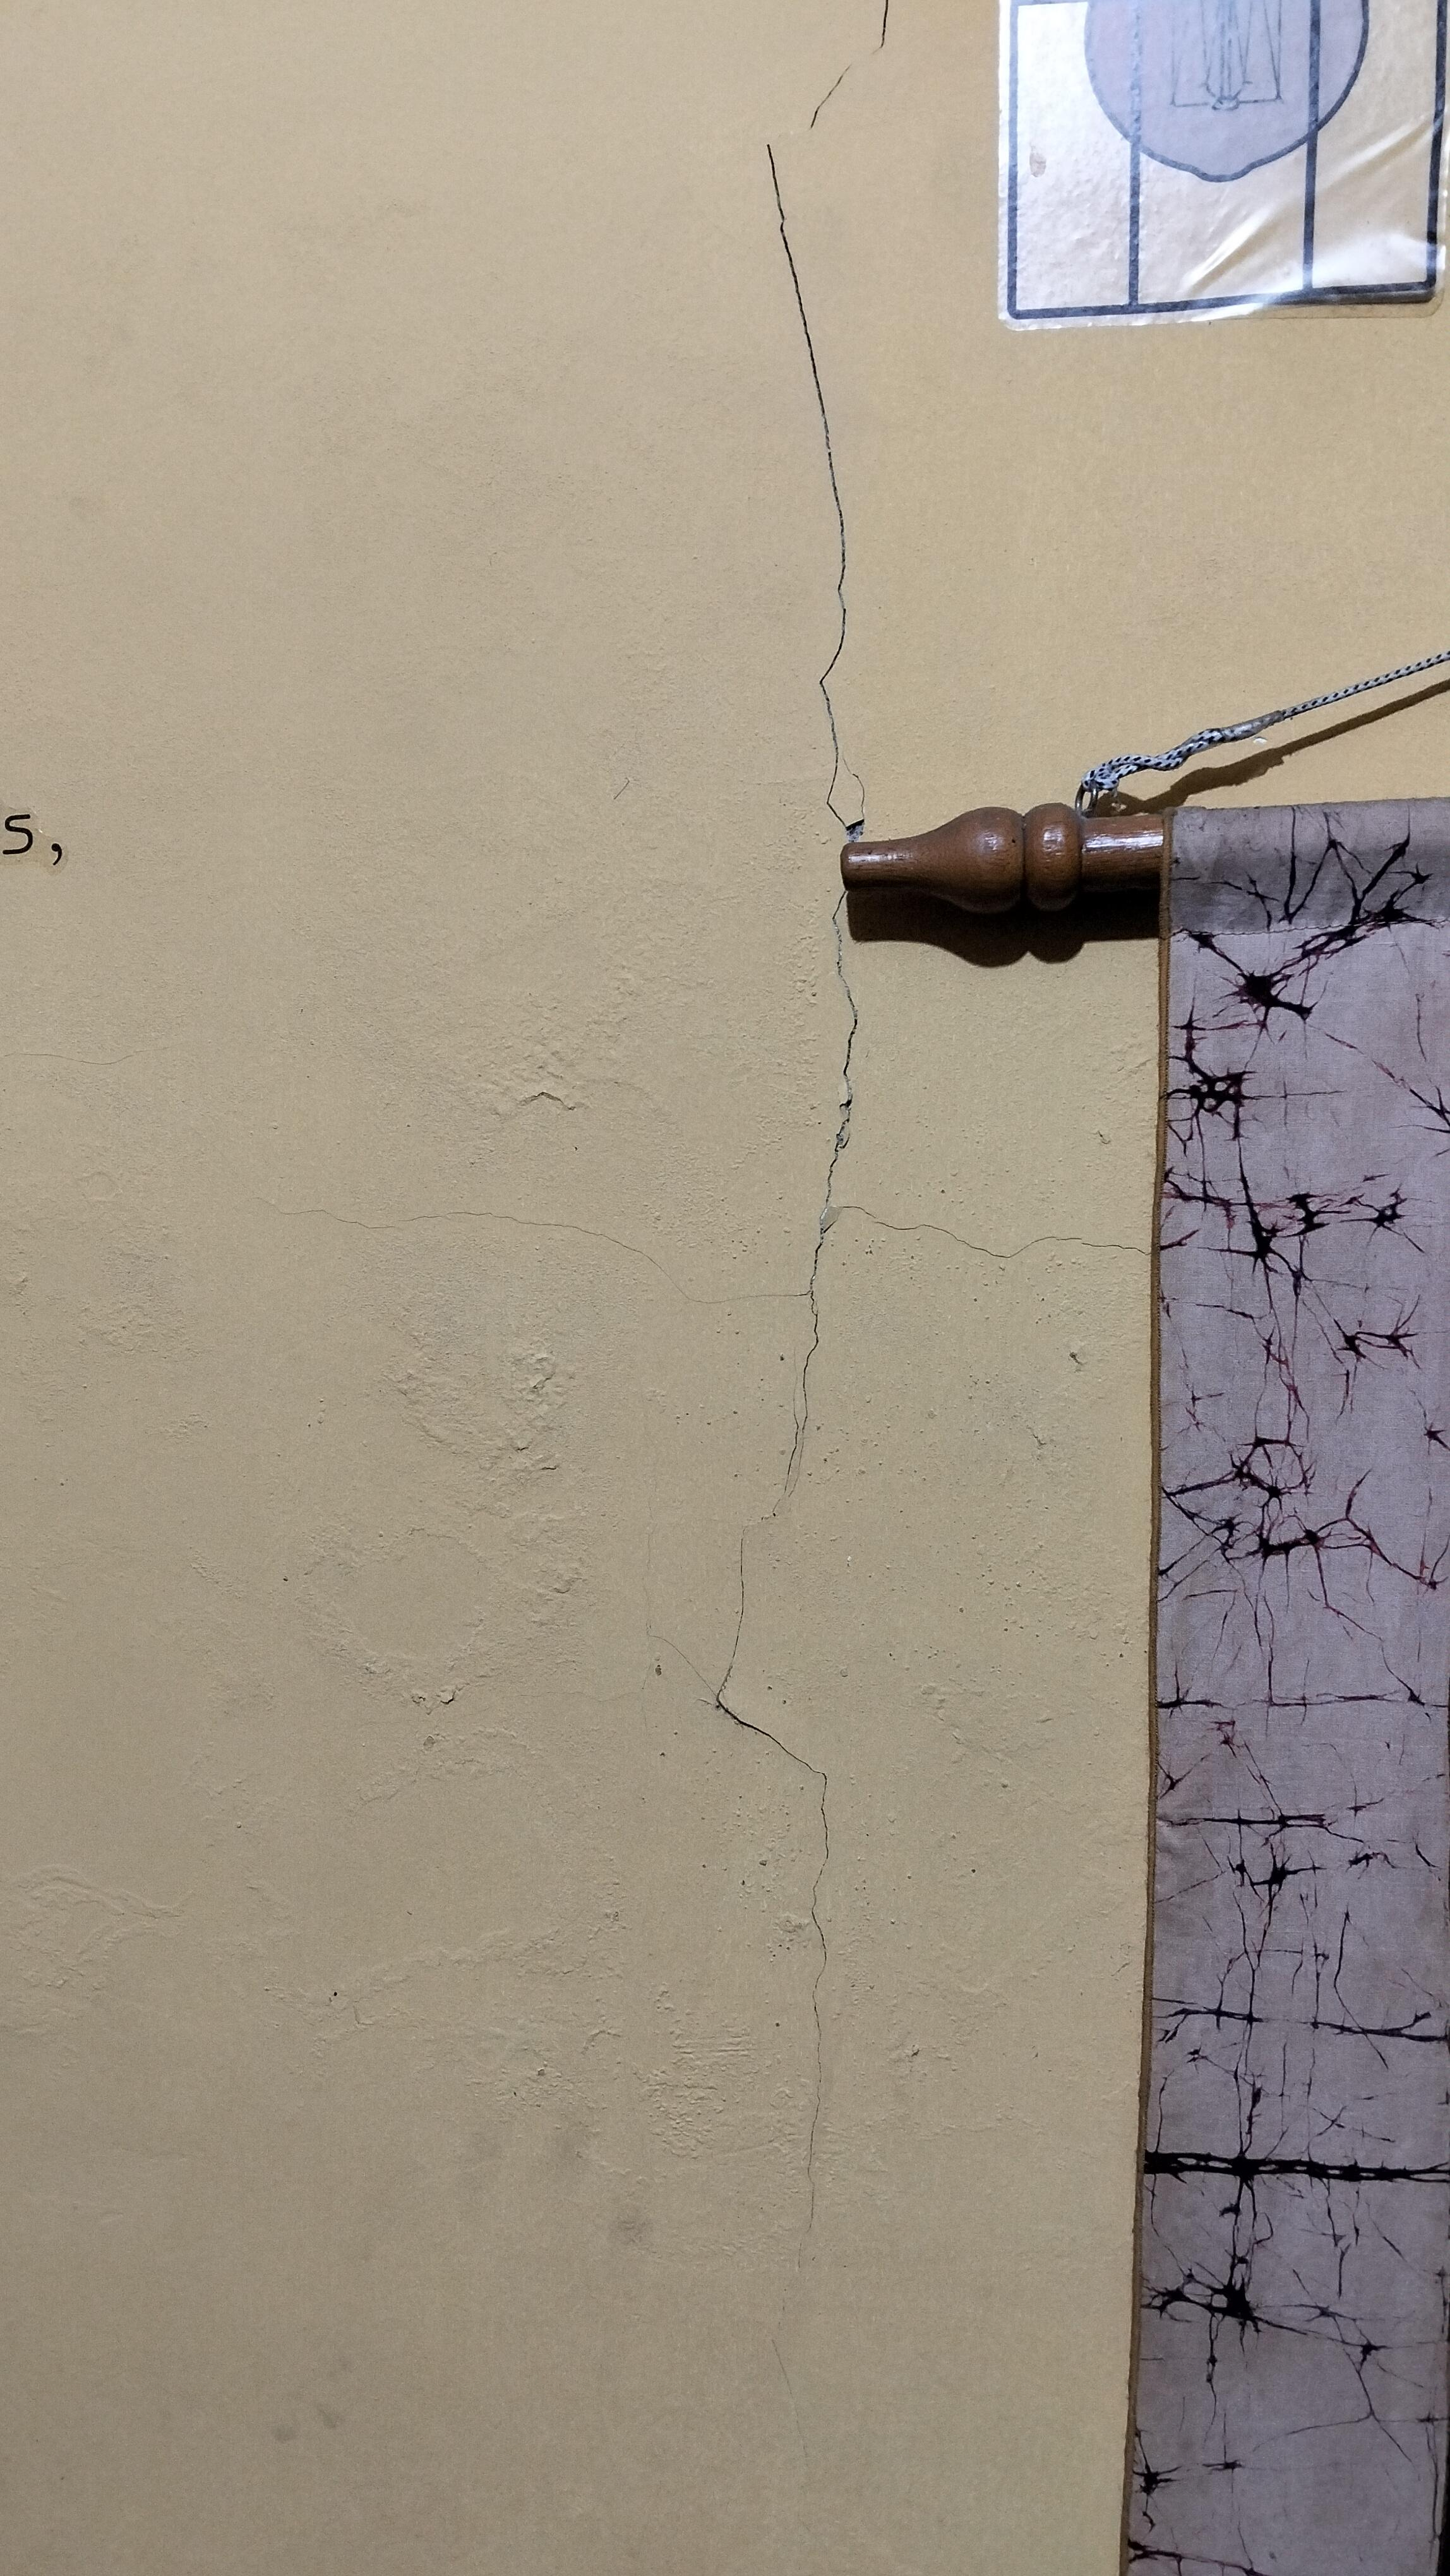Crack: (708, 892, 880, 2247), (751, 0, 914, 840)
